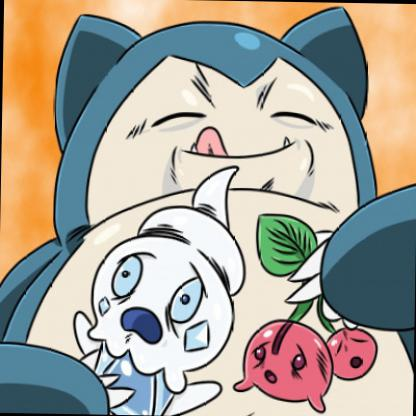Snorlax: (1, 14, 416, 416)
